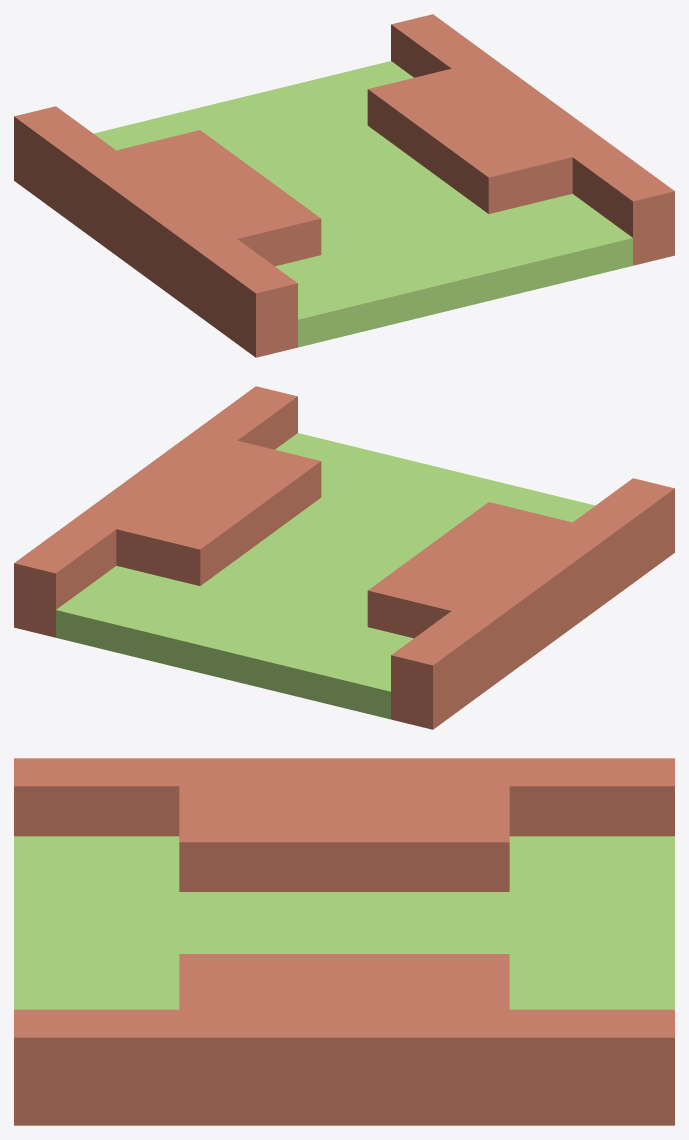
File: Narrow_block_01.glb
3 views of the same model, one above another, from view 1: azimuth 30°, elevation 25°; view 2: azimuth 150°, elevation 25°; view 3: azimuth 270°, elevation 25° (orthographic). The views are drawn at different scales.
Parts seen in each view (by area): view 1: Mesh1 Narrow_block Model; view 2: Mesh1 Narrow_block Model; view 3: Mesh1 Narrow_block Model.
Boxes of the visible parts, box(x1,y1,x2,y2) form: Mesh1 Narrow_block Model: box(14, 14, 674, 357); Mesh1 Narrow_block Model: box(14, 386, 674, 729); Mesh1 Narrow_block Model: box(14, 758, 674, 1125).
Size of the model in its own units: 3 by 0.44 by 3.
